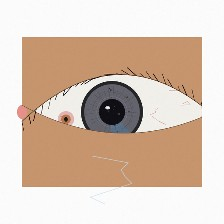foreign_body_visible: (54, 110, 78, 129)
